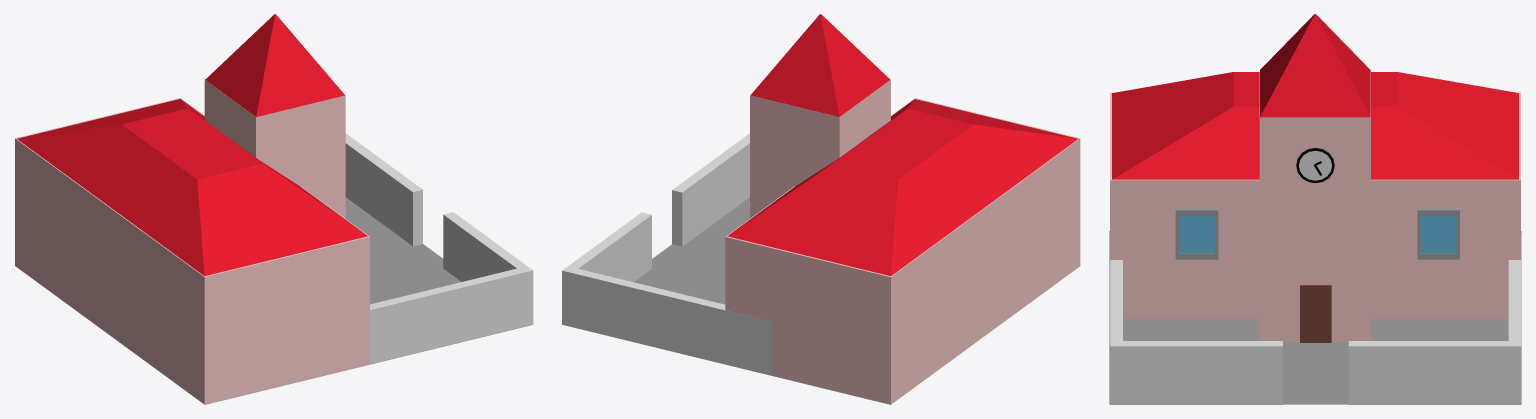
The model's file is School.fbx.
3 renders of one model, left to right at view 1: azimuth 30°, elevation 25°; view 2: azimuth 150°, elevation 25°; view 3: azimuth 270°, elevation 25°, orthographic. The views are drawn at different scales.
Visible parts, largest first — view 1: Cube, Cube.002, Cube.004, Cube.001, Cube.003, Plane, Cube.006, Cube.007; view 2: Cube, Cube.002, Cube.005, Cube.001, Cube.003, Plane, Cube.007, Cube.006; view 3: Cube, Cube.002, Cube.001, Plane, Cube.006, Cube.007, Cube.003, Cube.005, Cube.004, Cube.008, Cube.014, Cube.010 (+3 smaller).
Part boxes in pixels (<box>): Cube: <box>15,98,369,404</box>; Cube.002: <box>17,99,367,275</box>; Cube.004: <box>370,266,533,363</box>; Cube.001: <box>204,80,345,218</box>; Cube.003: <box>205,14,344,116</box>; Plane: <box>15,197,532,404</box>; Cube.006: <box>345,136,422,246</box>; Cube.007: <box>443,212,526,281</box>; Cube: <box>725,98,1080,404</box>; Cube.002: <box>727,99,1078,276</box>; Cube.005: <box>562,266,771,375</box>; Cube.001: <box>750,80,890,218</box>; Cube.003: <box>750,14,890,116</box>; Plane: <box>562,197,1079,404</box>; Cube.007: <box>672,136,749,246</box>; Cube.006: <box>568,212,651,282</box>; Cube: <box>1110,92,1520,318</box>; Cube.002: <box>1112,72,1518,179</box>; Cube.001: <box>1259,70,1370,341</box>; Plane: <box>1109,231,1521,404</box>; Cube.006: <box>1348,341,1509,404</box>; Cube.007: <box>1122,341,1282,404</box>; Cube.003: <box>1260,14,1370,117</box>; Cube.005: <box>1508,235,1521,404</box>; Cube.004: <box>1110,260,1122,404</box>; Cube.008: <box>1300,285,1331,342</box>; Cube.014: <box>1420,215,1456,253</box>; Cube.010: <box>1179,215,1214,253</box>.
Bounding box in the file's own units: 200 × 164 × 201.
